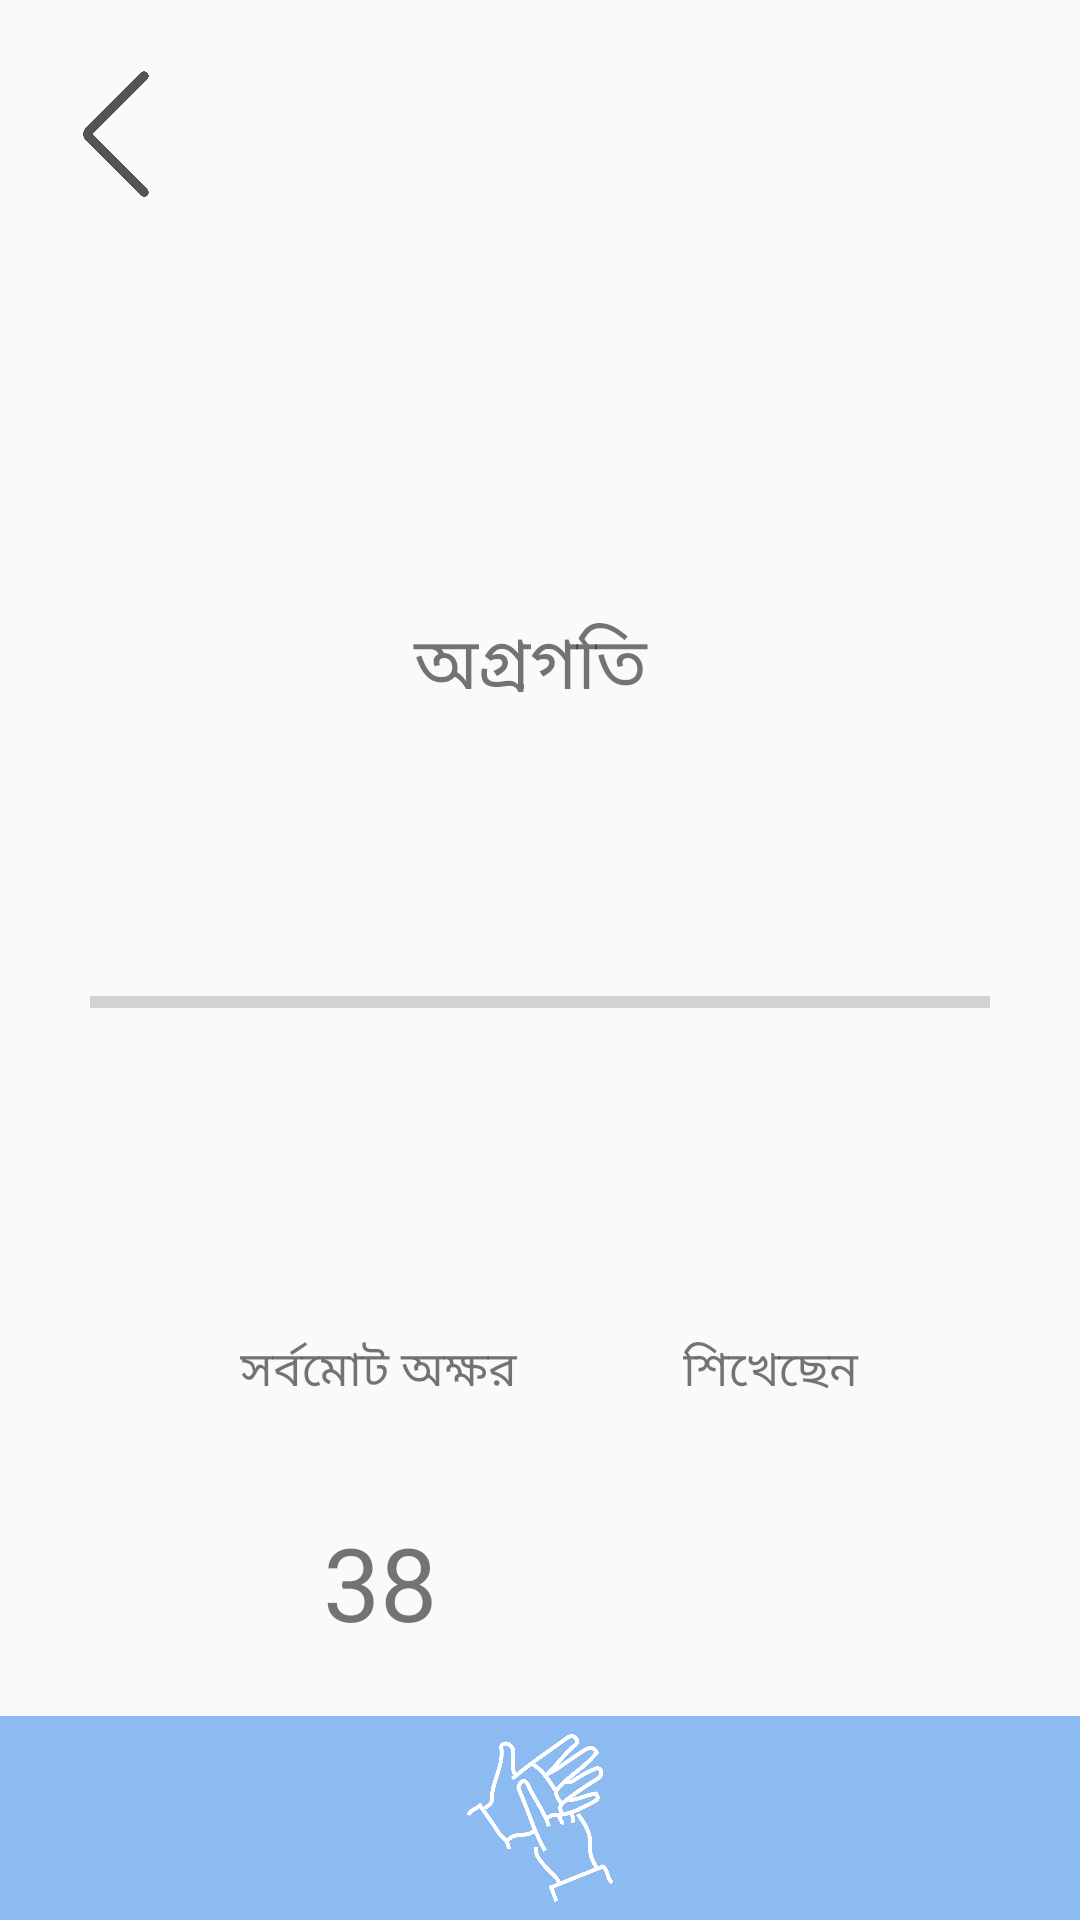

Named icons in this screenshot (1080px x 1920px) and their bounding boxes, [x1=x1, y1=y1, x2=x2, y2=y2]:
back: [x1=83, y1=71, x2=149, y2=197]
